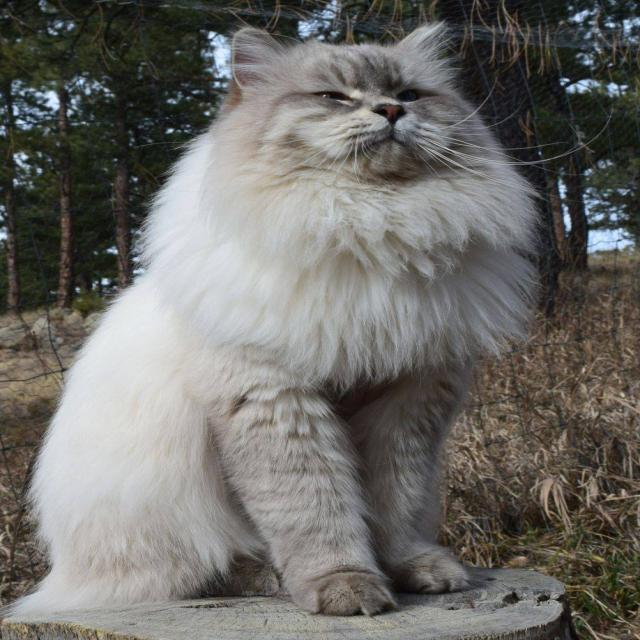Neva Masquerade: (2, 12, 550, 622)
